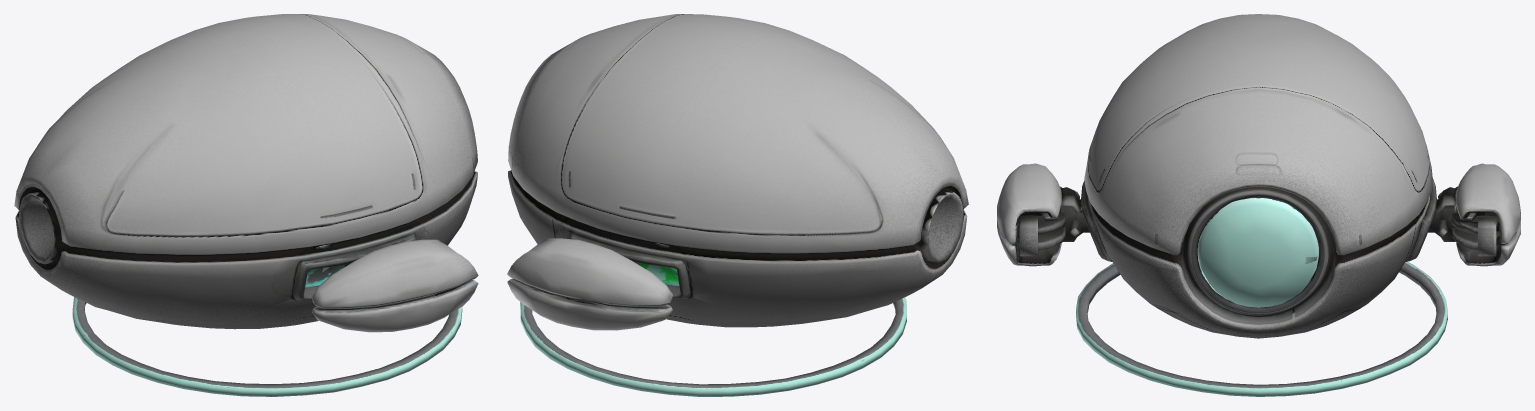
The model's file is tripo_convert_48d1c9f3-50ec-4804-aff7-d070d4f0d53e.fbx.
3 views of the same model, side by side, from view 1: azimuth 30°, elevation 25°; view 2: azimuth 150°, elevation 25°; view 3: azimuth 270°, elevation 25° (orthographic). The views are drawn at different scales.
Visible parts, largest first — view 1: tripo_node_48d1c9f3; view 2: tripo_node_48d1c9f3; view 3: tripo_node_48d1c9f3.
Boxes of the visible parts, x1,y1,x2,y2 form: tripo_node_48d1c9f3: [14, 14, 478, 396]; tripo_node_48d1c9f3: [507, 14, 968, 396]; tripo_node_48d1c9f3: [997, 14, 1520, 396].
Size of the model in its own units: 0.8535 by 0.5605 by 0.998.
1 material, 1 textured.
